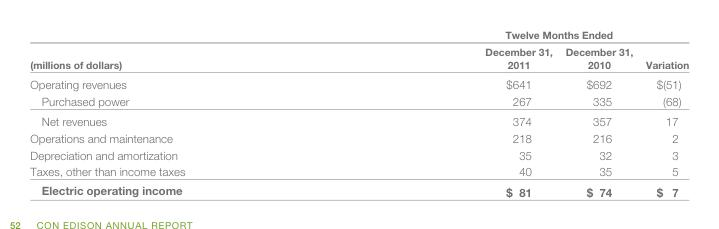table: (29, 28, 688, 198)
table column: (29, 28, 334, 198), (334, 28, 558, 198), (558, 28, 638, 198), (638, 28, 688, 198)
table column header: (29, 28, 688, 73)
table row: (29, 42, 688, 73), (29, 73, 688, 92), (29, 110, 688, 129), (29, 92, 688, 110), (29, 162, 688, 180), (29, 180, 688, 198), (29, 145, 688, 162), (29, 129, 688, 145), (29, 28, 688, 42)
table spanning cell: (29, 28, 334, 73), (334, 28, 638, 42), (638, 28, 688, 73)
